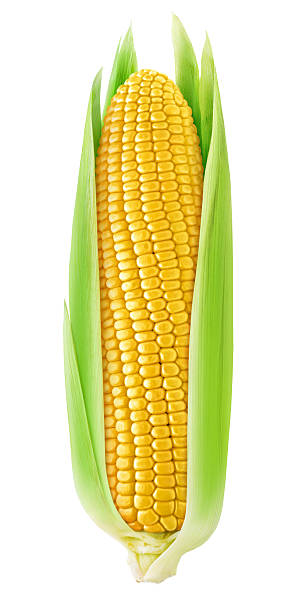corn: (65, 14, 249, 579)
